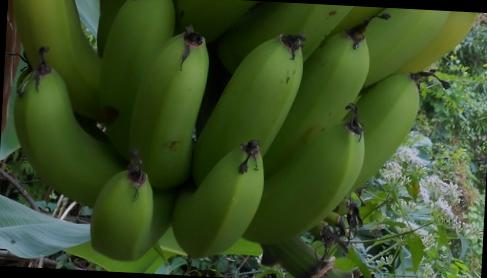Banana Unripe: (0, 0, 479, 275)
